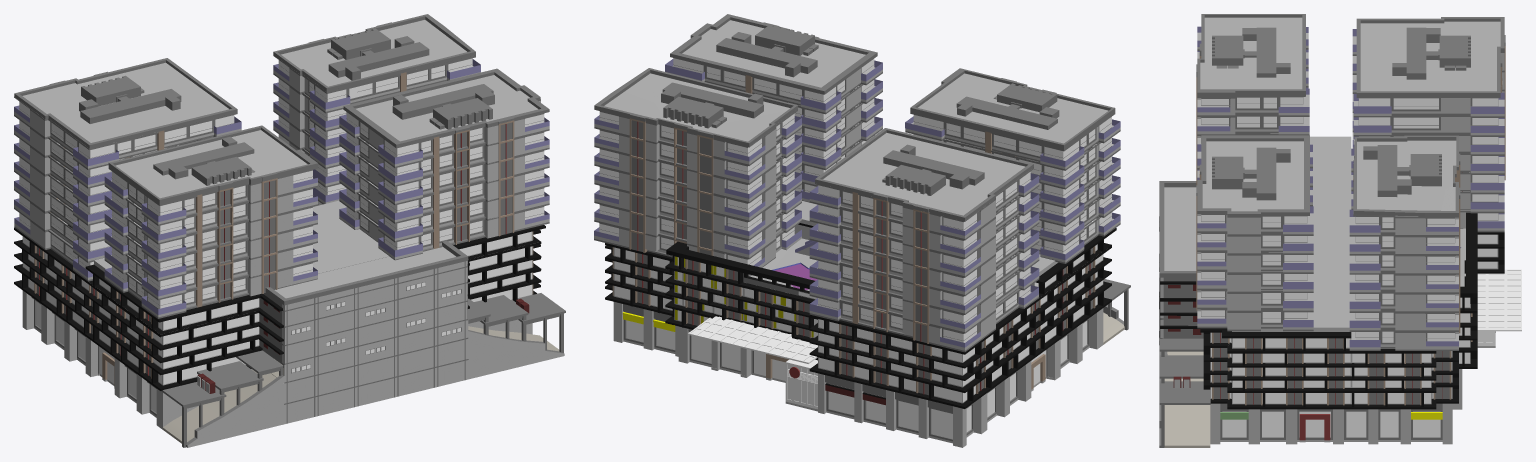
3 views of the same model, side by side, from view 1: azimuth 30°, elevation 25°; view 2: azimuth 150°, elevation 25°; view 3: azimuth 270°, elevation 25° (orthographic). The views are drawn at different scales.
Parts seen in each view (by area): view 1: group27_group14_group20_pCube22; view 2: group27_group14_group20_pCube22; view 3: group27_group14_group20_pCube22.
Boxes of the visible parts, <box> form: group27_group14_group20_pCube22: <box>14,14,565,447</box>; group27_group14_group20_pCube22: <box>594,14,1130,447</box>; group27_group14_group20_pCube22: <box>1159,14,1521,447</box>.
Bounding box in the file's own units: 104 × 59.5 × 79.4.
